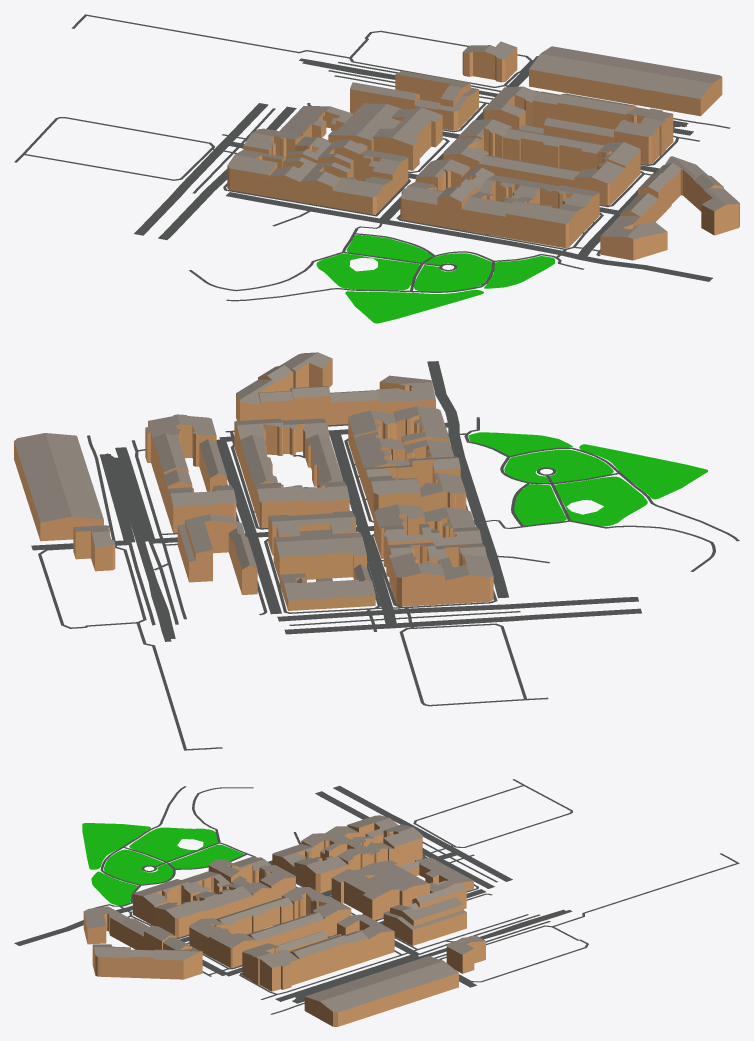
The model's file is Vasa.fbx.
The picture shows the model from 3 angles, top to bottom: view 1: azimuth 30°, elevation 25°; view 2: azimuth 150°, elevation 25°; view 3: azimuth 270°, elevation 25°; orthographic projection. The views are drawn at different scales.
Parts seen in each view (by area): view 1: map_61.osm_vegetation, element.046, element.024, element.005, element.019, element.001, element.040, element.006, element.027, element.023, element.038, element.010 (+37 smaller); view 2: map_61.osm_vegetation, element.046, element.010, element.014, element.020, element.006, element.008, element.035, element.001, Vasagatan, Vasagatan.001, element.019 (+45 smaller); view 3: map_61.osm_vegetation, element.046, element.019, element.001, element.027, element.007, element.036, element.024, element.010, element.045, element.008, element.005 (+38 smaller).
Boxes of the visible parts, <box> form: map_61.osm_vegetation: <box>316,235,554,323</box>; element.046: <box>529,46,722,116</box>; element.024: <box>505,196,584,248</box>; element.005: <box>503,128,604,171</box>; element.019: <box>372,107,442,170</box>; element.001: <box>614,107,673,164</box>; element.040: <box>600,216,667,260</box>; element.006: <box>227,149,286,196</box>; element.027: <box>557,93,636,129</box>; element.023: <box>332,176,392,214</box>; element.038: <box>462,41,517,82</box>; element.010: <box>328,103,401,150</box>; map_61.osm_vegetation: <box>468,432,707,526</box>; element.046: <box>14,433,103,541</box>; element.010: <box>273,529,366,580</box>; element.014: <box>279,573,375,610</box>; element.020: <box>390,553,444,606</box>; element.006: <box>438,554,493,604</box>; element.008: <box>167,485,236,532</box>; element.035: <box>185,514,235,581</box>; element.001: <box>145,414,216,468</box>; Vasagatan: <box>277,597,638,621</box>; Vasagatan.001: <box>284,608,641,634</box>; element.019: <box>268,511,355,555</box>; map_61.osm_vegetation: <box>82,823,244,905</box>; element.046: <box>304,956,458,1026</box>; element.019: <box>331,869,400,920</box>; element.001: <box>242,943,299,991</box>; element.027: <box>289,935,350,982</box>; element.007: <box>215,897,293,934</box>; element.036: <box>383,910,466,945</box>; element.024: <box>133,879,199,925</box>; element.010: <box>360,860,429,905</box>; element.045: <box>153,949,202,979</box>; element.008: <box>337,914,394,960</box>; element.005: <box>246,912,324,946</box>.
Size of the model in its own units: 45859 by 2419 by 56818.
